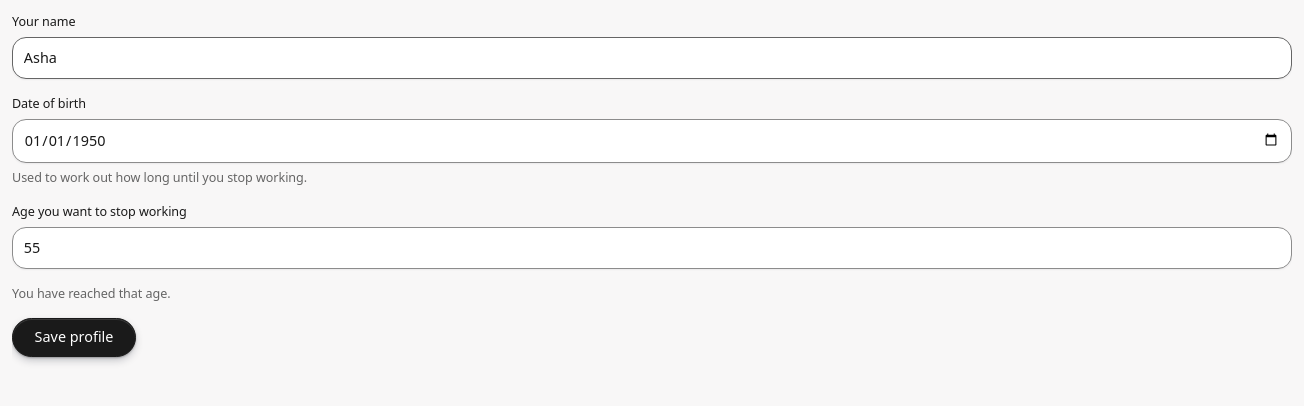
it: ProfileForm › rejects a retirement age that is not later than the current age
Click the button "Save profile" at {"x": 74, "y": 337}, box 12,318 -> 136,357
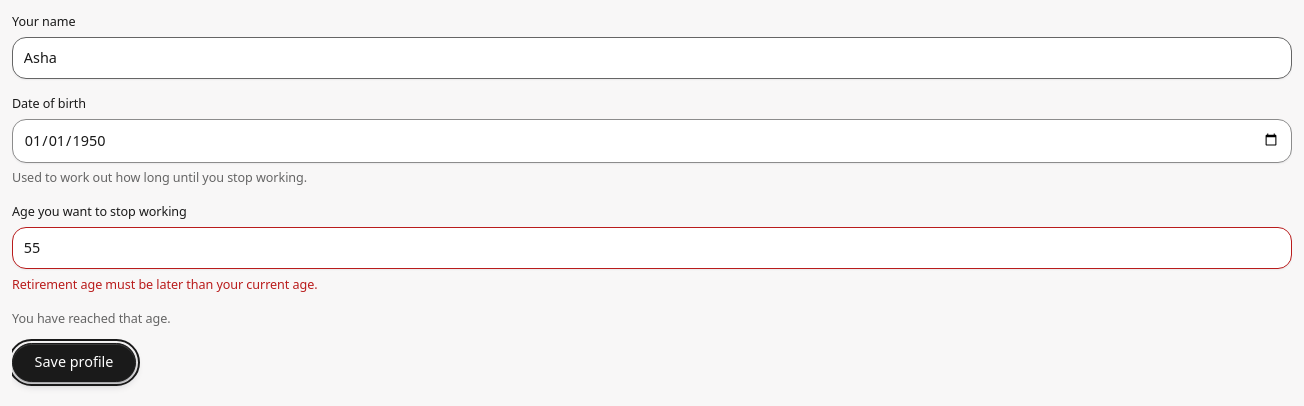
expect the text "Retirement age must be later than your current age." is shown: met, box 12,276 -> 318,293
